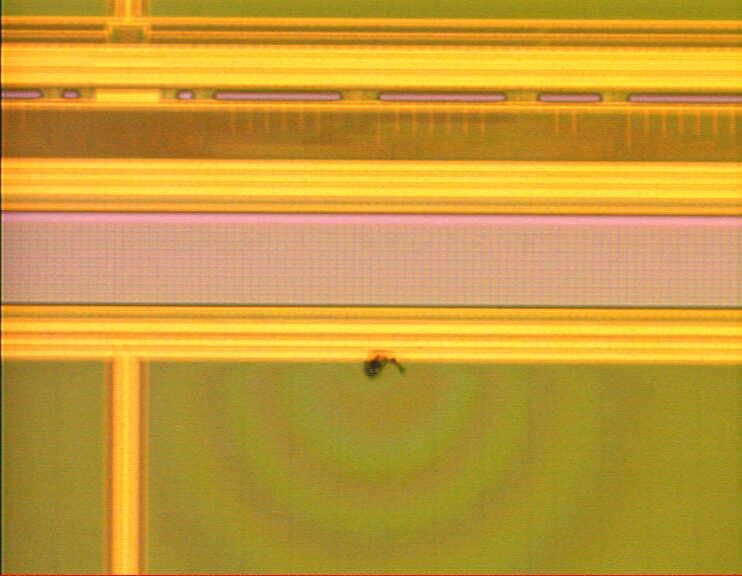PIQ PARTICLE: (362, 346, 410, 394)
